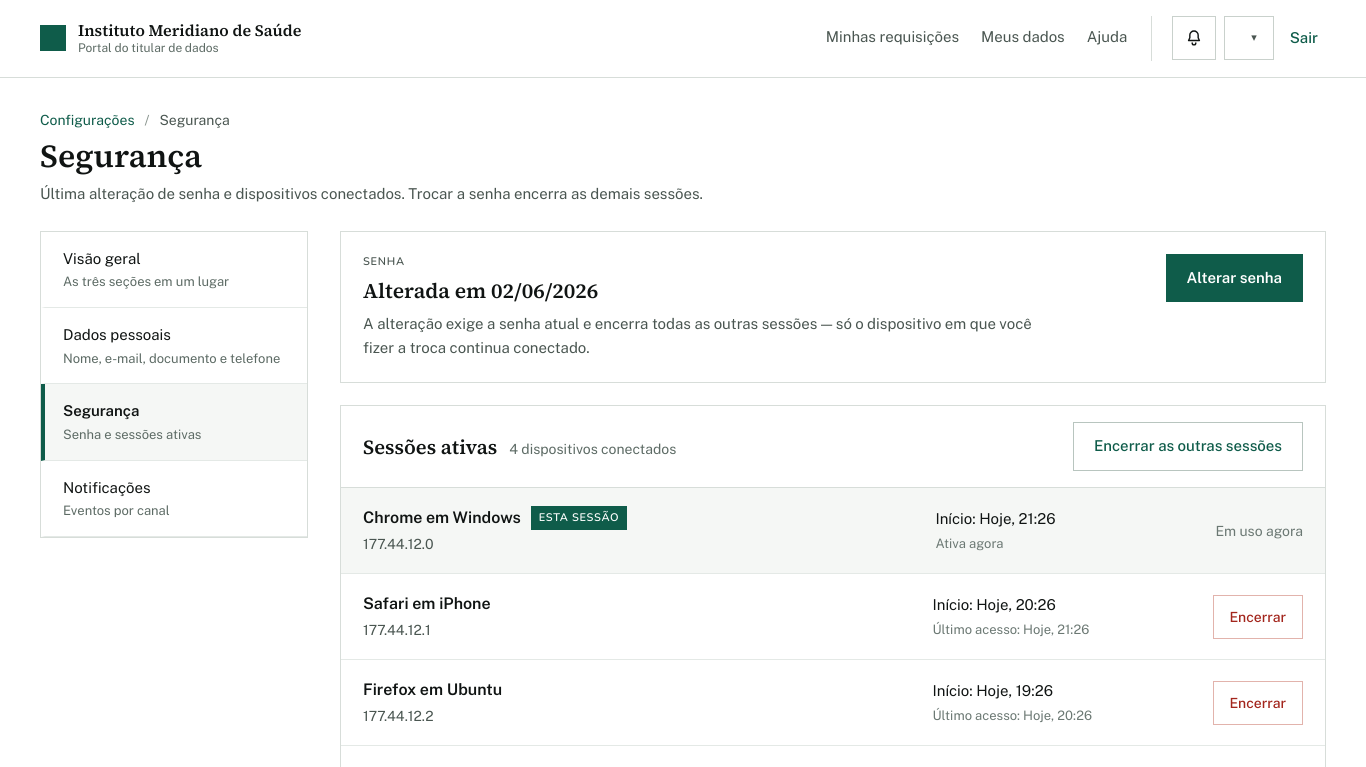
SecuritySettingsView › mostra a recusa do servidor quando a senha atual não confere
Click the button "Alterar senha" at (1234,278), box top-left (1166, 254), bottom-right (1303, 302)
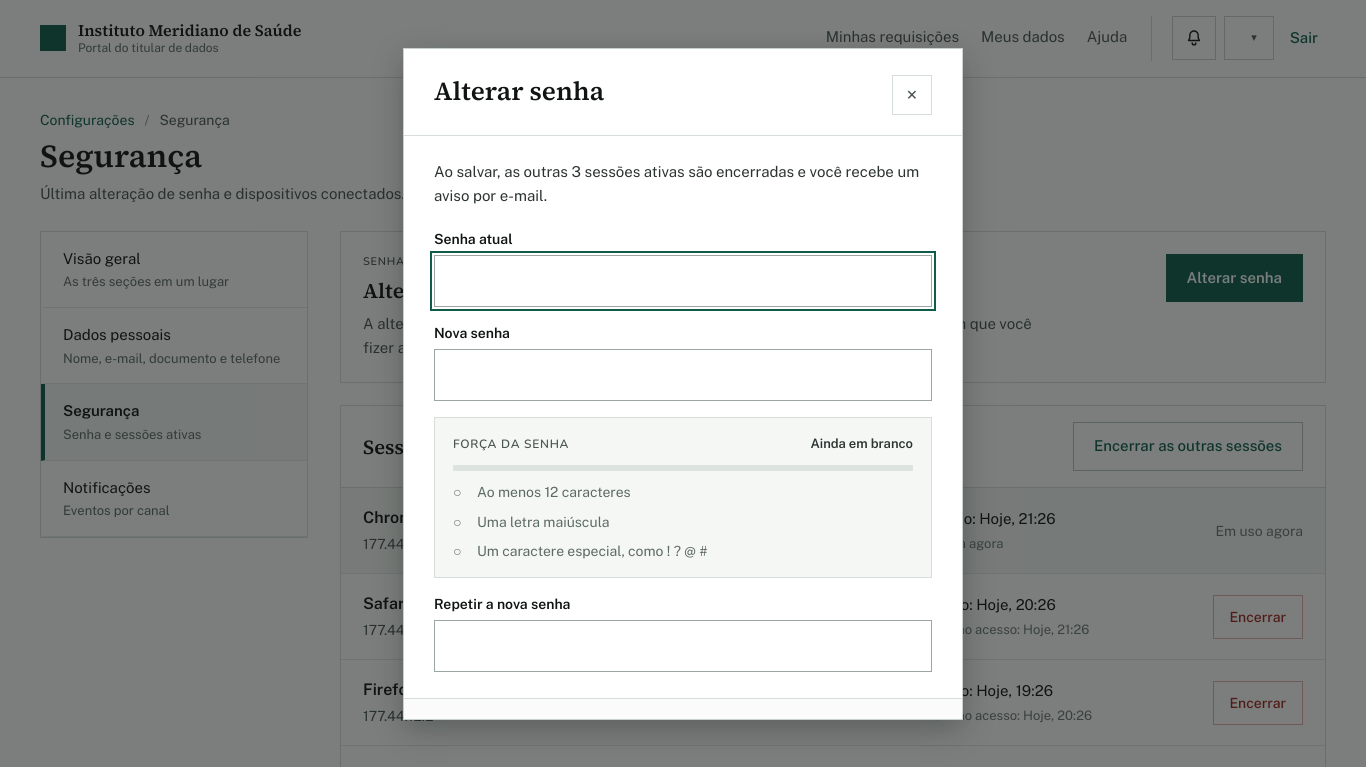
Type "errada" into the password field labelled "Senha atual" at (683,281), box top-left (434, 255), bottom-right (932, 307)
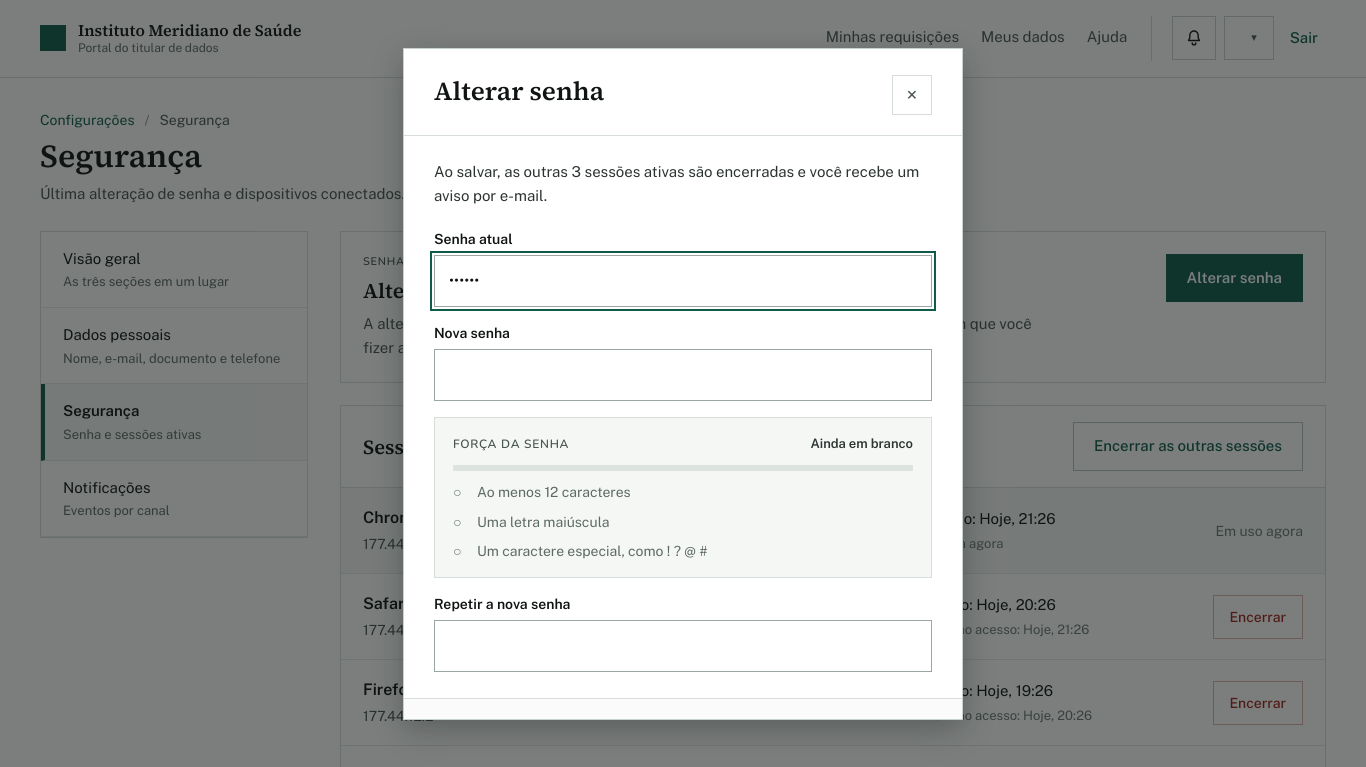
Type "OutraSenhaForte#2026" into the password field labelled "Nova senha" at (683,375), box top-left (434, 349), bottom-right (932, 401)
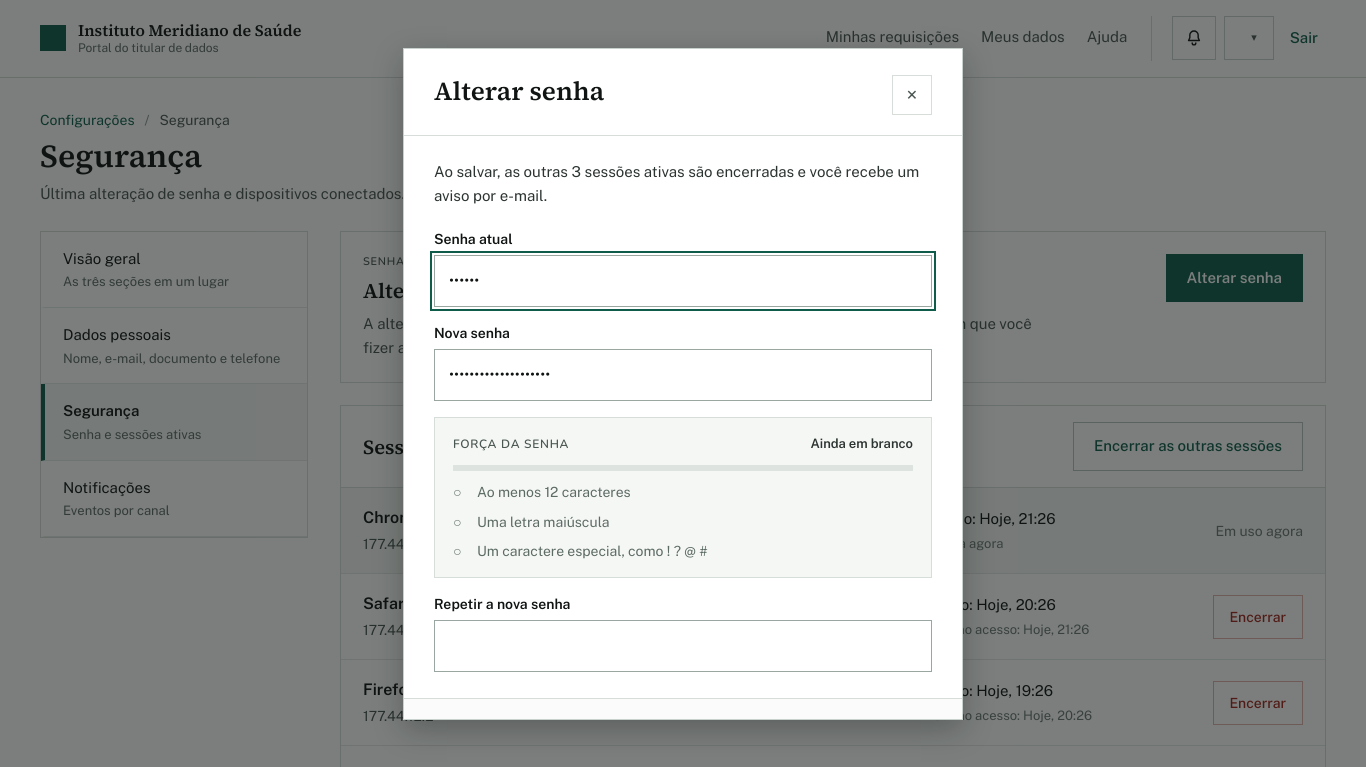
Type "OutraSenhaForte#2026" into the password field labelled "Repetir a nova senha" at (683,646), box top-left (434, 620), bottom-right (932, 672)
(page scrolled)
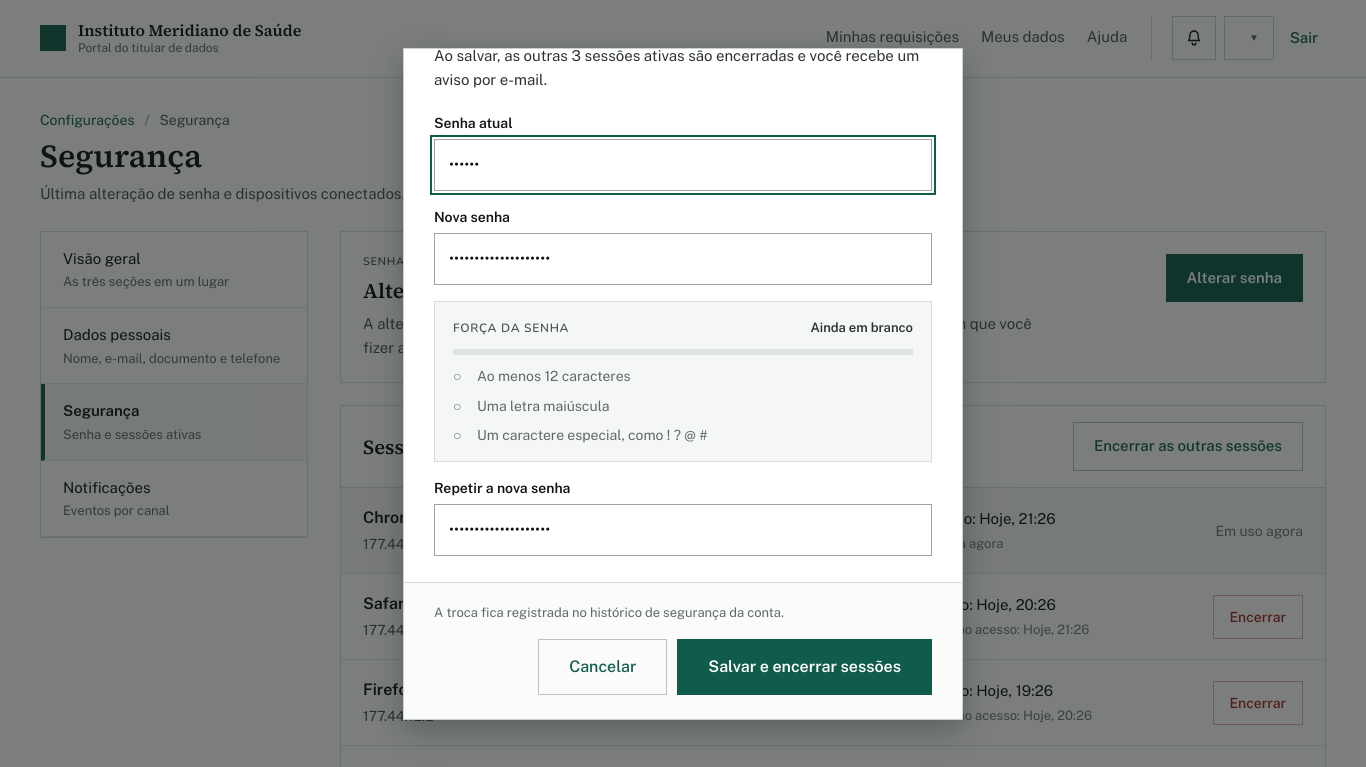
Click the button "Salvar e encerrar sessões" at (805,666), box top-left (677, 638), bottom-right (932, 694)
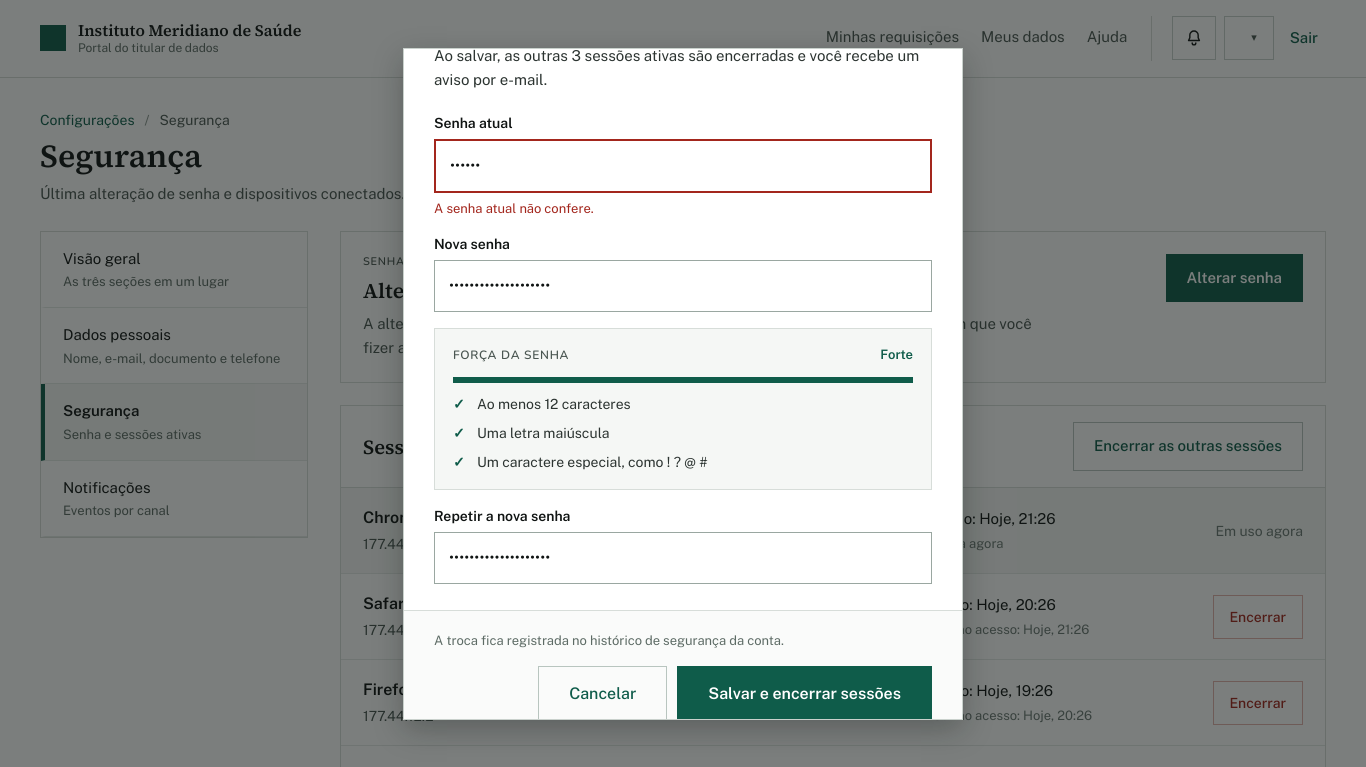
Result: the dialog shows "A senha atual não confere." at top-left (434, 201), bottom-right (594, 216)
